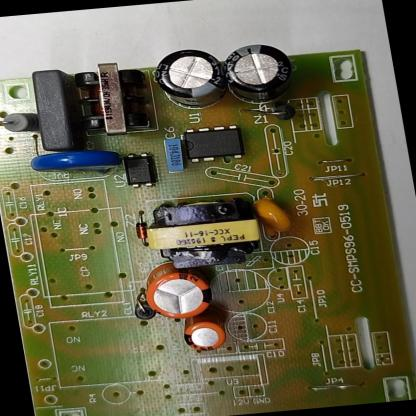Cap1: (137, 257, 223, 325)
Cap2: (178, 314, 231, 356)
Cap3: (149, 40, 233, 119)
Cap4: (215, 38, 309, 116)
MOSFET: (173, 118, 259, 174)
Mov: (21, 140, 135, 182)
Resistor: (0, 99, 45, 147)
Transformer: (127, 184, 277, 274), (63, 55, 168, 144)
